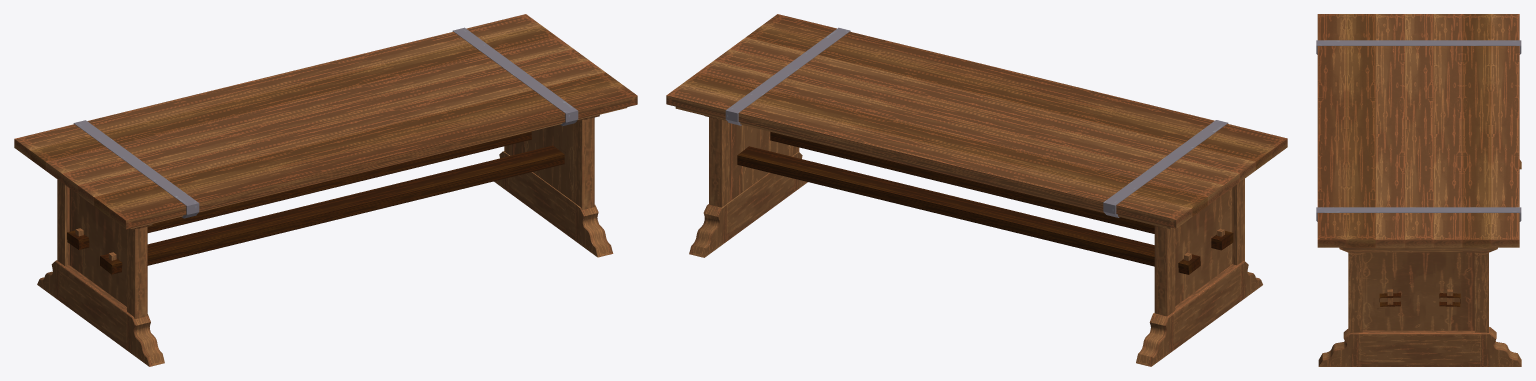
File: Table Large.glb
3 renders of one model, left to right at view 1: azimuth 30°, elevation 25°; view 2: azimuth 150°, elevation 25°; view 3: azimuth 270°, elevation 25°, orthographic. The views are drawn at different scales.
Visible parts, largest first — view 1: Table_Large; view 2: Table_Large; view 3: Table_Large.
Boxes of the visible parts, bbox=[...] form: Table_Large: bbox=[14, 14, 637, 366]; Table_Large: bbox=[666, 14, 1287, 366]; Table_Large: bbox=[1316, 14, 1521, 366].
Size of the model in its own units: 2.85 by 0.8134 by 1.1.
2 materials, 2 textured.
